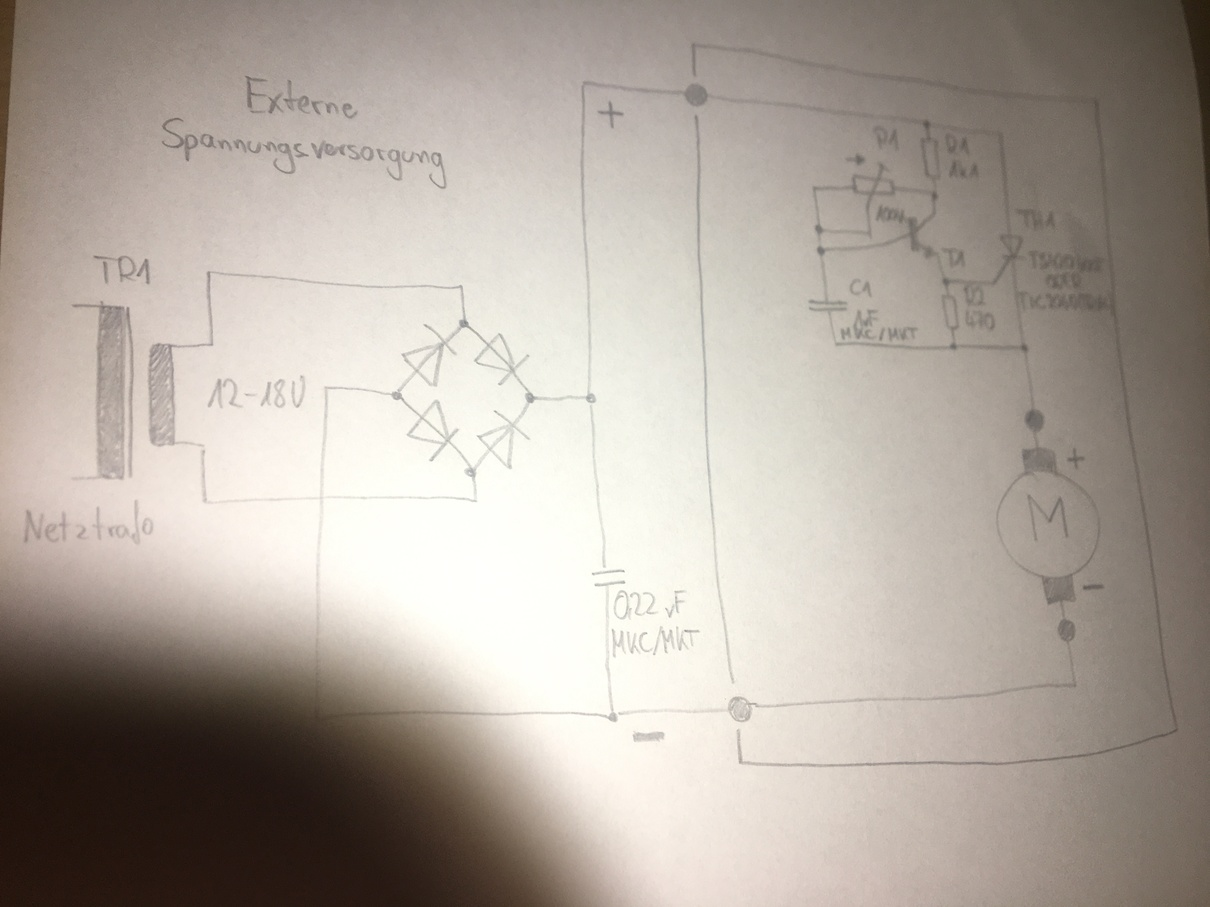capacitor.unpolarized: (589, 563, 630, 592), (806, 295, 850, 315)
crossover: (316, 492, 329, 503)
diode: (399, 321, 458, 389), (475, 408, 531, 471), (405, 398, 459, 462), (472, 332, 531, 387)
junction: (522, 389, 541, 407), (583, 390, 600, 407), (605, 708, 622, 725), (462, 464, 479, 480), (310, 709, 326, 726), (389, 387, 405, 403), (577, 77, 592, 92), (1088, 94, 1103, 108), (456, 317, 471, 331), (198, 493, 213, 507), (1017, 340, 1032, 354), (195, 439, 209, 453), (1069, 677, 1082, 691), (928, 188, 942, 201), (320, 382, 333, 395), (948, 340, 961, 353), (813, 223, 825, 237), (815, 244, 827, 258), (939, 276, 953, 288), (1171, 723, 1183, 736), (469, 494, 481, 506), (204, 267, 216, 279), (920, 117, 933, 128), (455, 281, 468, 292), (994, 128, 1006, 139), (206, 339, 217, 350), (810, 183, 820, 194), (831, 339, 842, 349)
motor: (991, 444, 1106, 609)
resistor: (919, 134, 944, 182), (939, 292, 962, 333)
resistor.adjustable: (851, 161, 896, 206)
terminal: (67, 473, 81, 484), (68, 300, 79, 310)
text: (160, 116, 450, 191), (21, 495, 157, 548), (243, 73, 360, 121), (205, 372, 309, 411), (610, 623, 701, 659), (1017, 290, 1115, 318), (613, 587, 688, 621), (91, 252, 153, 287), (1028, 249, 1105, 273), (839, 325, 920, 342), (1015, 206, 1057, 233), (872, 124, 900, 153), (946, 159, 981, 182), (963, 309, 997, 332), (942, 132, 971, 158), (874, 204, 907, 226), (1043, 272, 1083, 290), (847, 276, 873, 300), (941, 246, 968, 269), (962, 284, 988, 307), (852, 308, 879, 328)
thyristor: (996, 233, 1028, 265)
transformer: (91, 299, 180, 485)
transistor: (907, 210, 941, 261)
